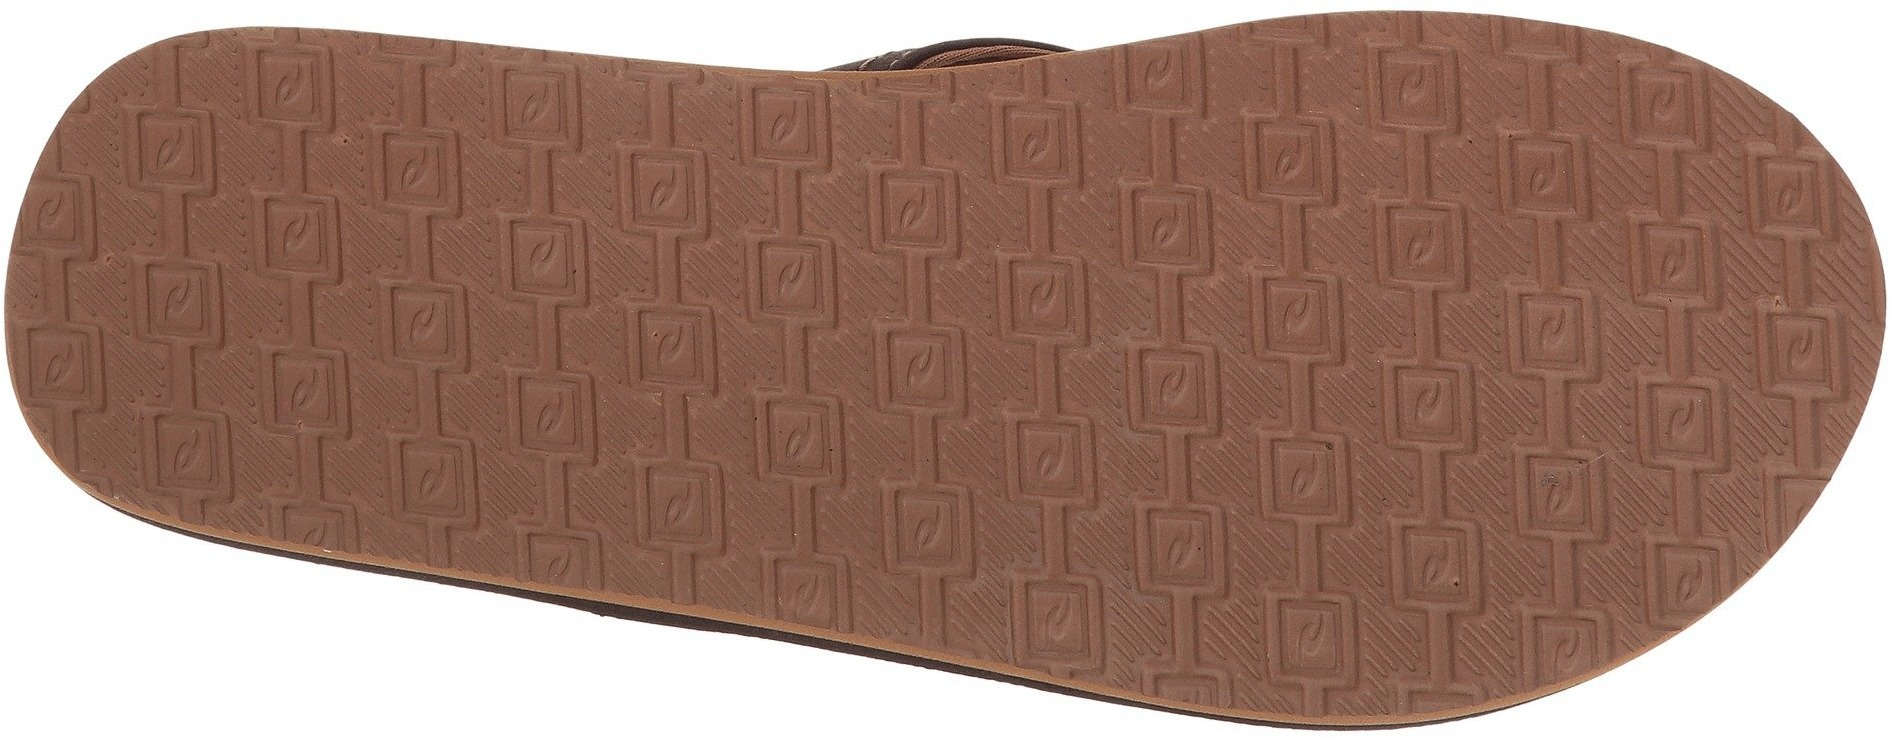exclude: (737, 0, 1105, 74)
quad: (724, 81, 1272, 594), (206, 65, 707, 526), (1276, 55, 1729, 476), (1294, 490, 1493, 676)
